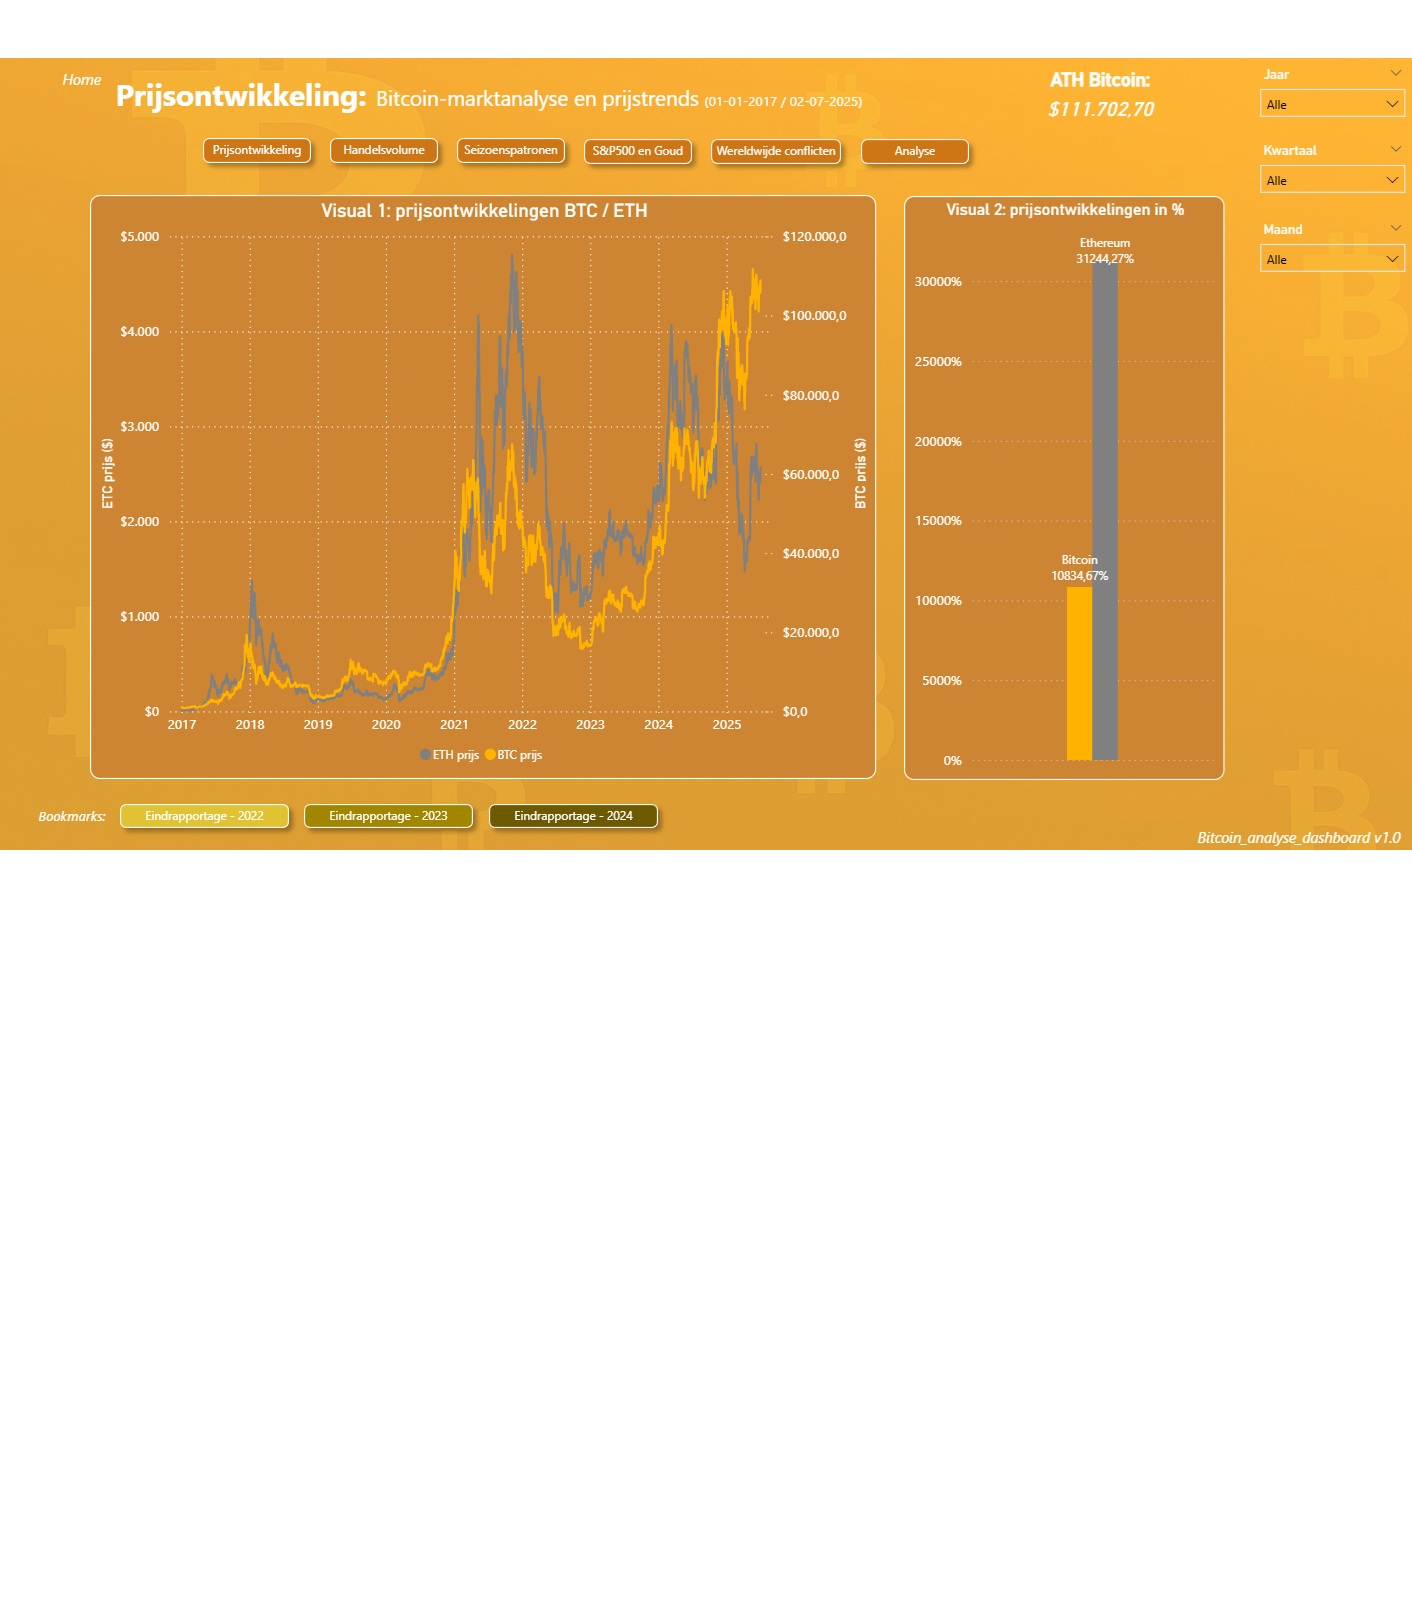

The dashboard page shown, as its layout file describes it:
{"tool":"powerbi","page":{"name":"Homepage - Prijsontwikkeling","canvas":[1280,720],"ordinal":0},"visuals":[{"type":"lineChart","title":"Visual 1: prijsontwikkelingen BTC / ETH","fields":{"Category":["date_table.Date"],"Y":["df_crypto_joined.Price_of_ETH"],"Y2":["df_crypto_joined.Price_of_BTC"]},"box":[92.3,131,704.5,523.1],"z":0},{"type":"clusteredColumnChart","title":"Visual 2: prijsontwikkelingen in %","fields":{"Y":["df_crypto_joined.Bitcoin prijs ontwikkeling in %","df_crypto_joined.Ethereum prijs ontwikkeling in %"]},"box":[821.1,131.3,286.9,523],"z":1000},{"type":"slicer","fields":{"Values":["date_table.Year"]},"box":[1130.2,10.7,149.8,68.1],"z":2000},{"type":"slicer","fields":{"Values":["date_table.Month Number"]},"box":[1130.2,149.8,149.8,68.1],"z":3000},{"type":"slicer","fields":{"Values":["date_table.Quarter"]},"box":[1130.2,78.8,149.8,68.1],"z":4000},{"type":"textbox","box":[110.1,10.7,953.7,60],"z":5000},{"type":"textbox","box":[1070.1,692.2,209.6,27.8],"z":6000},{"type":"shape","box":[184.5,70.5,114.6,40.3],"z":7000},{"type":"shape","box":[298.2,70.5,114.6,40.3],"z":8000},{"type":"shape","box":[411.9,70.5,114.6,40.3],"z":9000},{"type":"shape","box":[525.7,71.4,114.6,40.3],"z":10000},{"type":"shape","box":[639.4,71.4,134.3,40.3],"z":11000},{"type":"shape","box":[773.7,71.4,114.6,40.3],"z":12000},{"type":"textbox","box":[63,13,57,28],"z":13000},{"type":"shape","box":[110.1,667.2,169.3,39.4],"z":14000},{"type":"shape","box":[274.9,667.2,169.3,39.4],"z":15000},{"type":"shape","box":[440.6,667.2,169.3,39.4],"z":16000},{"type":"textbox","box":[41.2,672.5,78.8,27.8],"z":17000},{"type":"card","title":"ATH Bitcoin:","fields":{"Values":["df_crypto_joined.All_time_high_BTC"]},"box":[911.6,17,170.1,54.6],"z":18000}]}

Visuals, with their boxes on the page's 1280x720 design canvas (x1, y1, x2, y2). These are canvas units, not pixel positions in the 1412x1600 screenshot, which may show the page scaled, cropped or inside an application window:
"Visual 1: prijsontwikkelingen BTC / ETH" lineChart: left=92, top=131, right=797, bottom=654
"Visual 2: prijsontwikkelingen in %" clusteredColumnChart: left=821, top=131, right=1108, bottom=654
slicer - date_table.Year: left=1130, top=11, right=1280, bottom=79
slicer - date_table.Month Number: left=1130, top=150, right=1280, bottom=218
slicer - date_table.Quarter: left=1130, top=79, right=1280, bottom=147
textbox: left=110, top=11, right=1064, bottom=71
textbox: left=1070, top=692, right=1280, bottom=720
shape: left=184, top=70, right=299, bottom=111
shape: left=298, top=70, right=413, bottom=111
shape: left=412, top=70, right=526, bottom=111
shape: left=526, top=71, right=640, bottom=112
shape: left=639, top=71, right=774, bottom=112
shape: left=774, top=71, right=888, bottom=112
textbox: left=63, top=13, right=120, bottom=41
shape: left=110, top=667, right=279, bottom=707
shape: left=275, top=667, right=444, bottom=707
shape: left=441, top=667, right=610, bottom=707
textbox: left=41, top=672, right=120, bottom=700
"ATH Bitcoin:" card: left=912, top=17, right=1082, bottom=72
